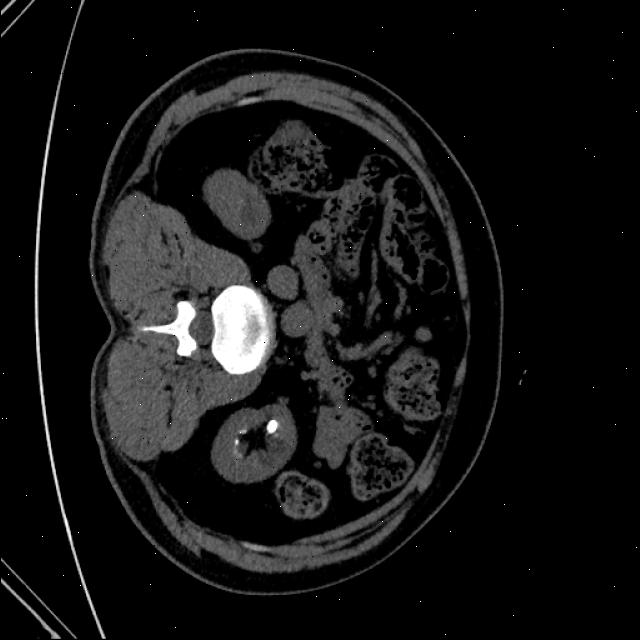kidneystone: (268, 420, 278, 428)
